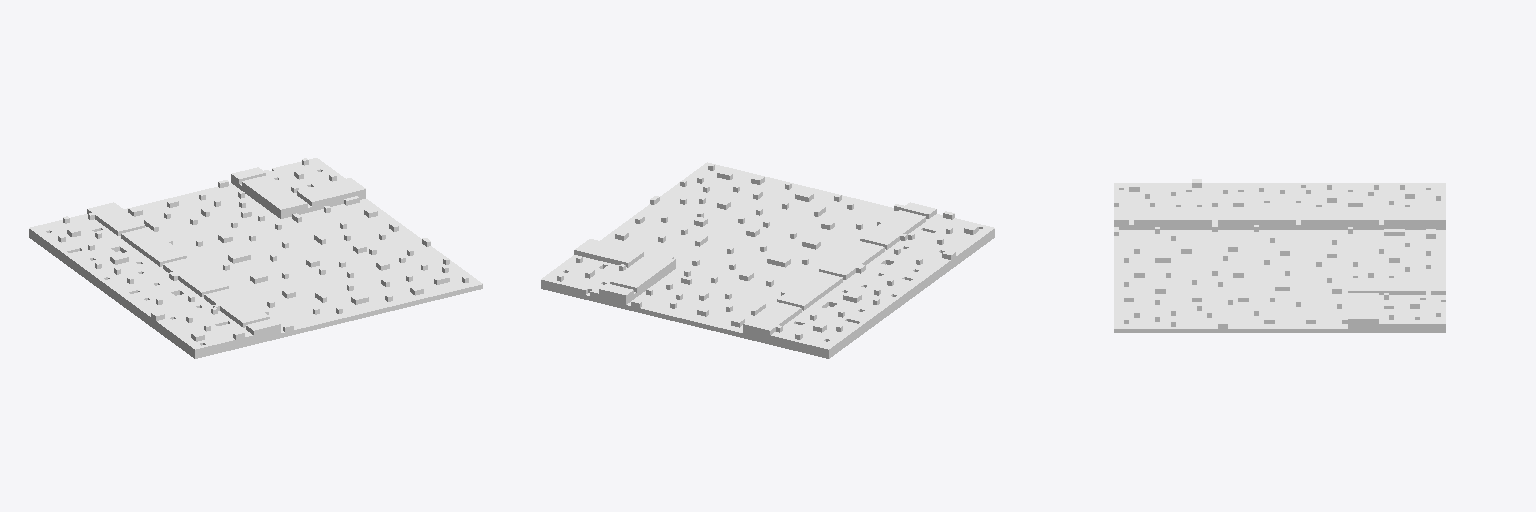
Rendered from EarthenPath3Fork_3.obj.
3 views of the same model, side by side, from view 1: azimuth 30°, elevation 25°; view 2: azimuth 150°, elevation 25°; view 3: azimuth 270°, elevation 25° (orthographic).
Parts seen in each view (by area): view 1: EarthenPath3Fork_3; view 2: EarthenPath3Fork_3; view 3: EarthenPath3Fork_3.
Part boxes in pixels (left/top/right/bottom): EarthenPath3Fork_3: left=29, top=158, right=482, bottom=358; EarthenPath3Fork_3: left=541, top=162, right=994, bottom=358; EarthenPath3Fork_3: left=1114, top=179, right=1445, bottom=332.
Bounding box in the file's own units: 1 × 0.0469 × 1.